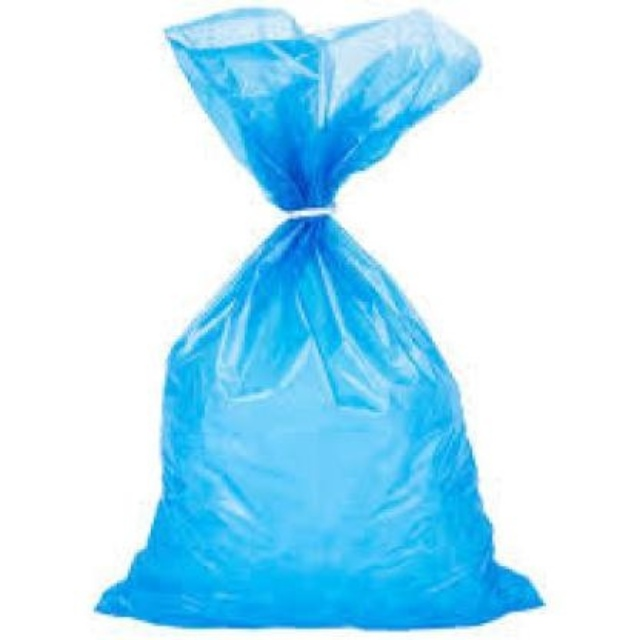trash: (98, 9, 540, 626)
